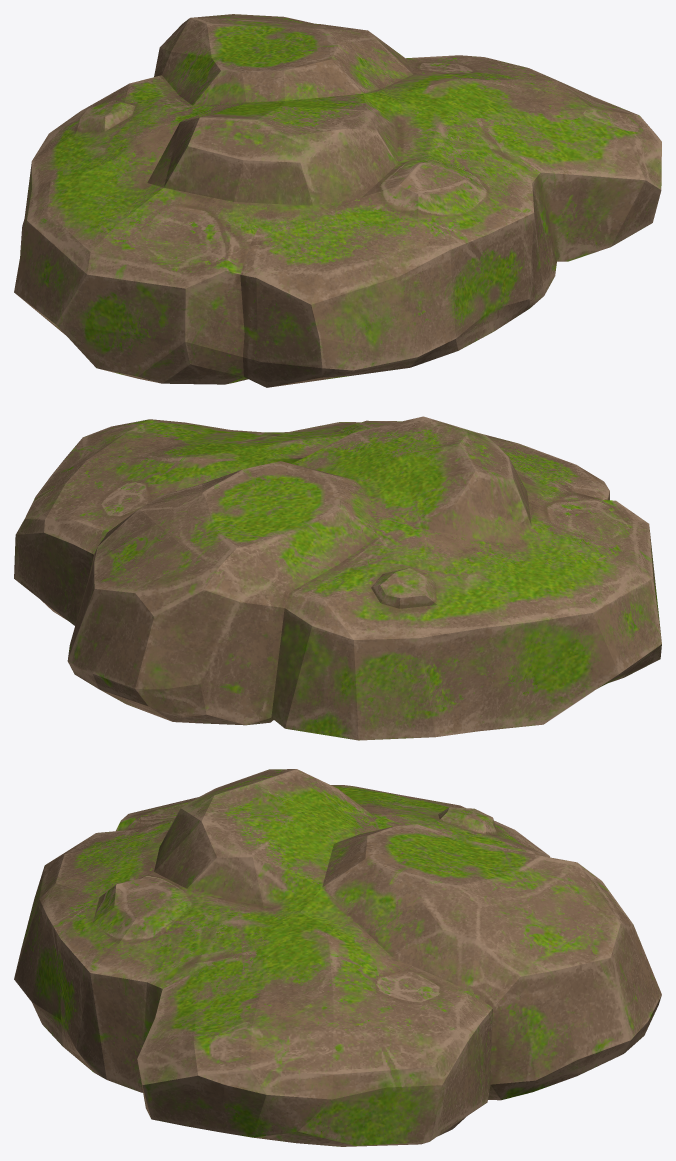
The model's file is sb_obj_nature007_Rock03f.fbx.
3 renders of one model, top to bottom at view 1: azimuth 30°, elevation 25°; view 2: azimuth 150°, elevation 25°; view 3: azimuth 270°, elevation 25°, orthographic. The views are drawn at different scales.
Visible parts, largest first — view 1: sb_obj_nature007_Rock03f; view 2: sb_obj_nature007_Rock03f; view 3: sb_obj_nature007_Rock03f.
Boxes of the visible parts, <box> form: sb_obj_nature007_Rock03f: <box>14,14,661,387</box>; sb_obj_nature007_Rock03f: <box>14,416,661,740</box>; sb_obj_nature007_Rock03f: <box>14,769,661,1146</box>.
Bounding box in the file's own units: 4.46 × 1.54 × 4.03.
